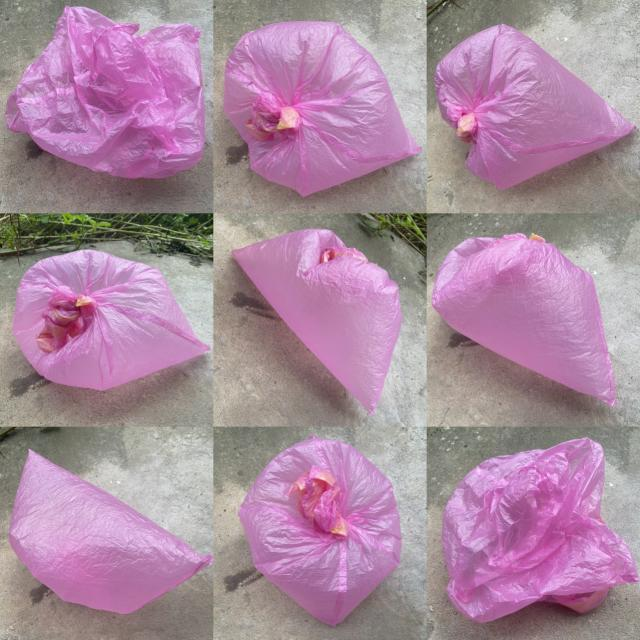Single-layer Plastic: (431, 15, 639, 190), (442, 438, 639, 622), (5, 6, 205, 179), (224, 22, 420, 196), (8, 450, 212, 614), (433, 234, 615, 406), (233, 228, 401, 414), (239, 436, 401, 626), (12, 250, 209, 390)
